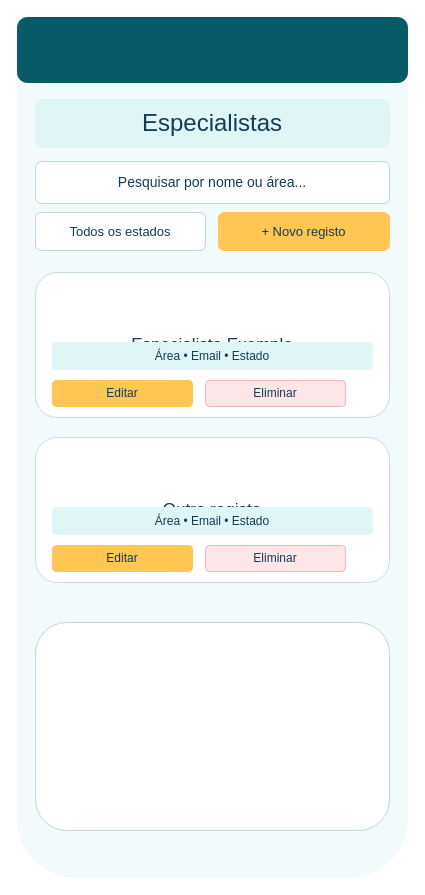
The diagram is 425 pixels wide and 895 high, and some of its shapes have lost their labels. Here are the shapes that lost their labels. From the top down, the centre of each, then its label:
the point at 212,49: Animalec+ | Administração
the point at 212,726: Formulário: Nome · Área · Contacto · Estado · Guardar
